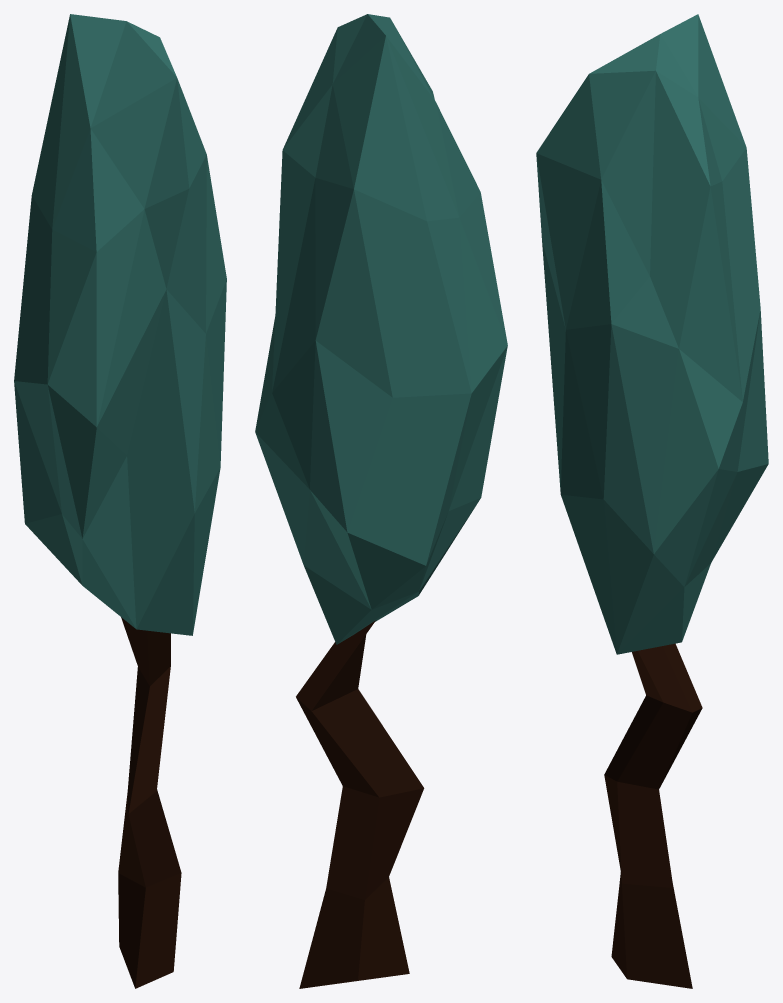
Rendered from tree 2.FBX.
The picture shows the model from 3 angles, left to right: view 1: azimuth 30°, elevation 25°; view 2: azimuth 150°, elevation 25°; view 3: azimuth 270°, elevation 25°; orthographic projection. The views are drawn at different scales.
Visible parts, largest first — view 1: GeoSphere002, Box001; view 2: GeoSphere002, Box001; view 3: GeoSphere002, Box001.
Boxes of the visible parts, x1=… form: GeoSphere002: x1=14, y1=14, x2=226, y2=635; Box001: x1=118, y1=617, x2=181, y2=988; GeoSphere002: x1=255, y1=14, x2=507, y2=644; Box001: x1=296, y1=620, x2=424, y2=988; GeoSphere002: x1=536, y1=14, x2=768, y2=654; Box001: x1=604, y1=643, x2=702, y2=988.
Size of the model in its own units: 23.91 by 114 by 25.75.
